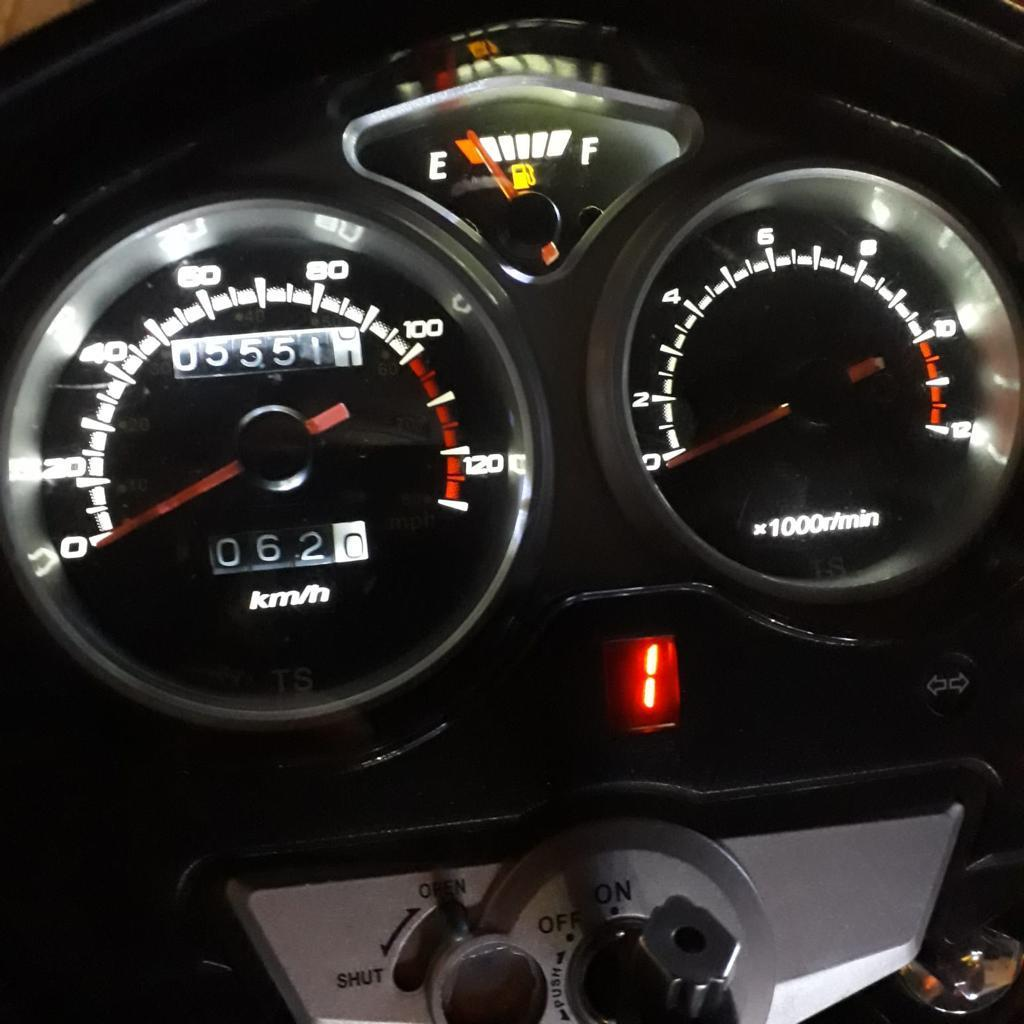0: (173, 340, 197, 371)
1: (309, 336, 321, 365), (345, 348, 353, 367)
5: (238, 337, 263, 366), (271, 336, 295, 365), (204, 337, 227, 366)
odometer: (170, 324, 365, 380)
